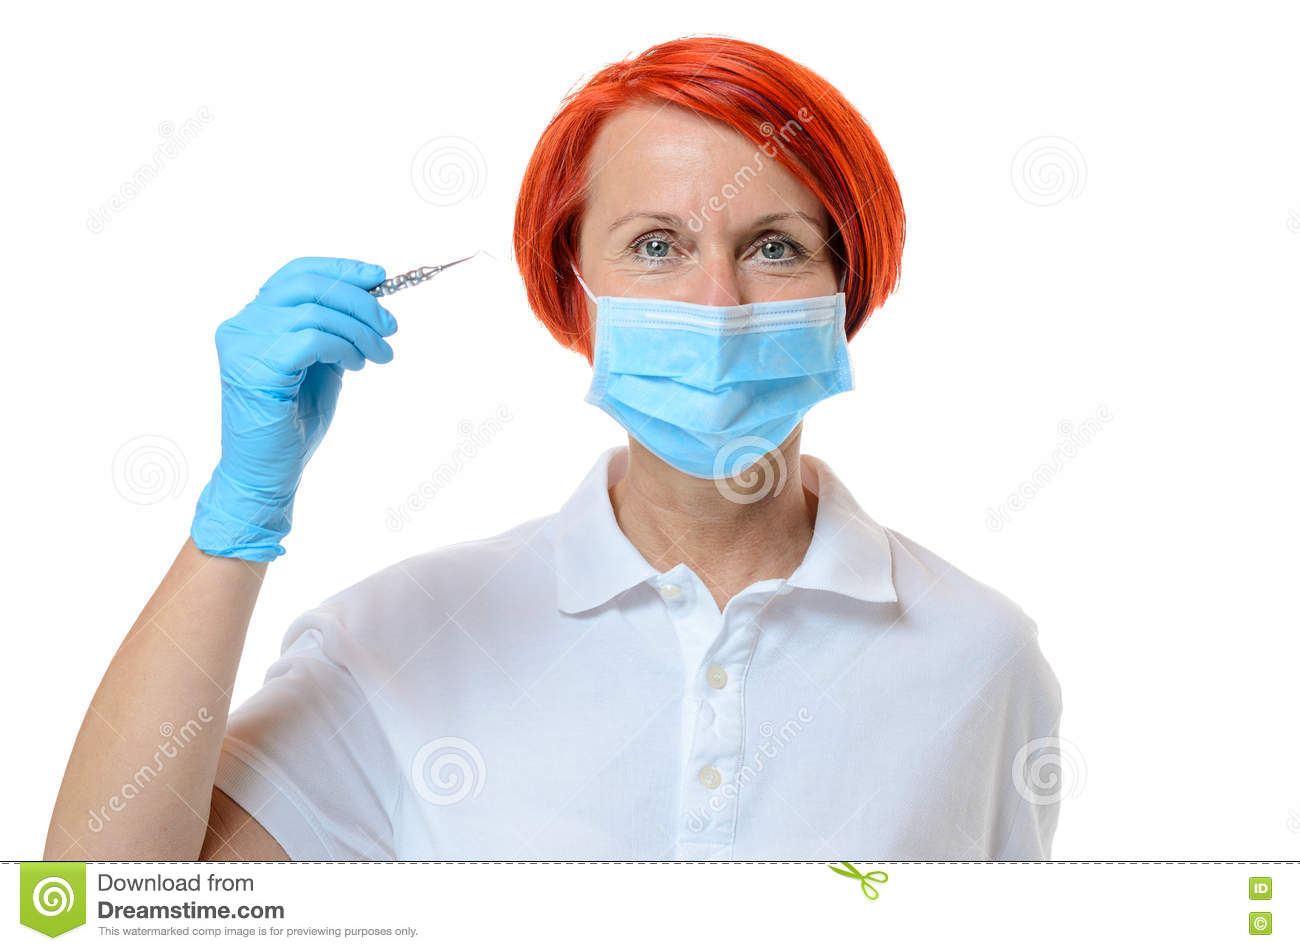mask: (583, 292, 875, 469)
